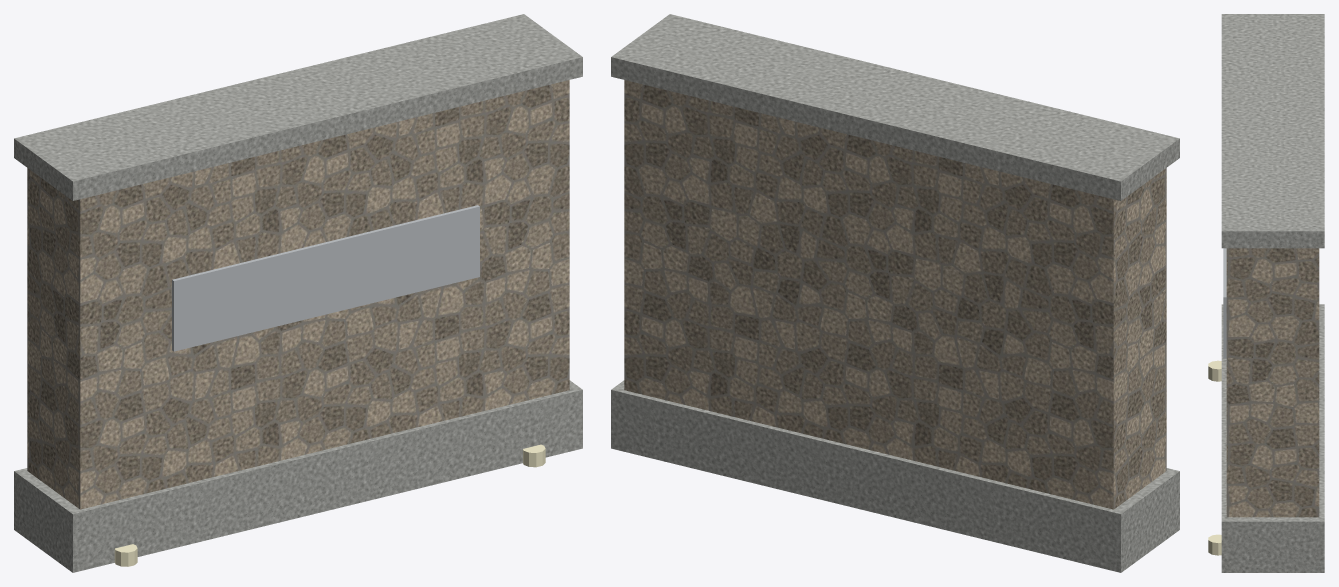
The picture shows the model from 3 angles, left to right: view 1: azimuth 30°, elevation 25°; view 2: azimuth 150°, elevation 25°; view 3: azimuth 270°, elevation 25°; orthographic projection. The views are drawn at different scales.
Parts seen in each view (by area): view 1: baseOffset=0;depth=0.6;height=2.2;material=stone_wall;power= (×4); view 2: baseOffset=0;depth=0.6;height=2.2;material=stone_wall;power= (×2); view 3: baseOffset=0;depth=0.6;height=2.2;material=stone_wall;power= (×4).
Part boxes in pixels (<box>): baseOffset=0;depth=0.6;height=2.2;material=stone_wall;power= (×4): <box>14,14,582,572</box>; baseOffset=0;depth=0.6;height=2.2;material=stone_wall;power= (×2): <box>611,14,1179,572</box>; baseOffset=0;depth=0.6;height=2.2;material=stone_wall;power= (×4): <box>1208,14,1324,572</box>.
Bounding box in the file's own units: 3 × 0.6771 × 2.2.
Materials: 4 (2 with a texture image).
